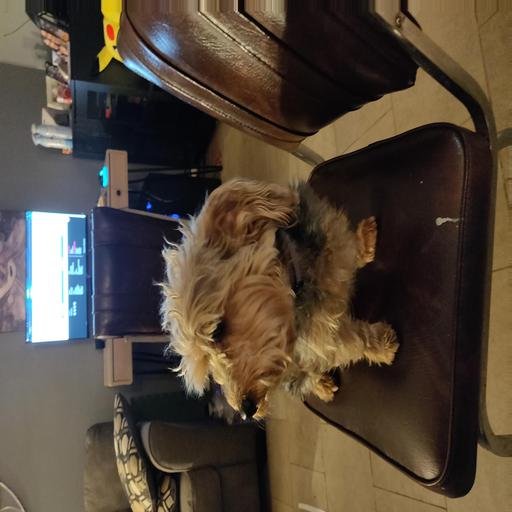dog: (132, 172, 375, 415)
